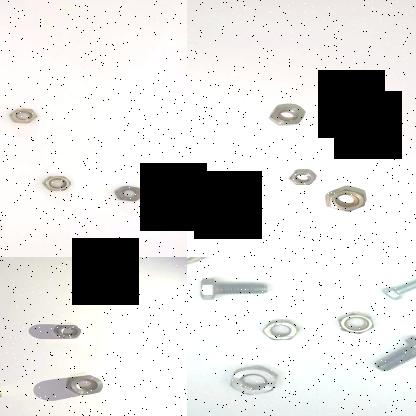Bolts: (188, 274, 272, 302), (367, 332, 416, 373), (375, 265, 416, 303)
NUTS: (221, 362, 291, 398), (318, 186, 370, 214), (332, 308, 377, 338), (254, 319, 304, 345), (260, 102, 306, 128), (64, 373, 106, 399), (282, 166, 318, 188), (107, 185, 146, 204), (2, 106, 40, 124), (39, 174, 73, 193), (52, 323, 84, 342)
